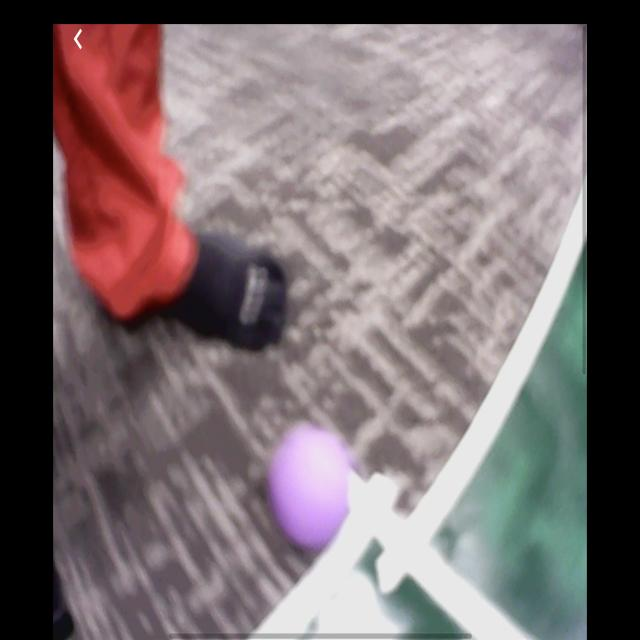ball: (272, 425, 350, 549)
